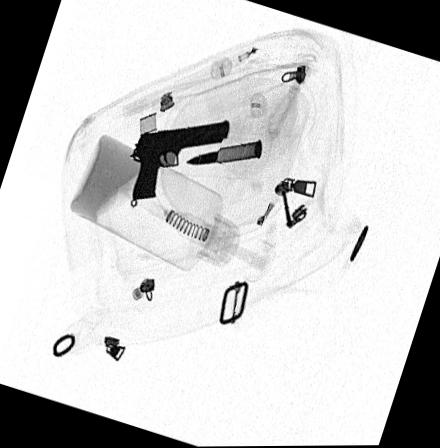Bullet: (184, 140, 263, 164)
Gun: (132, 119, 230, 199)
